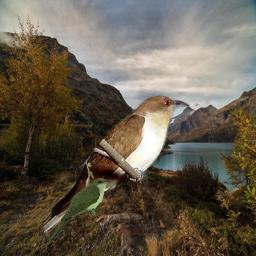Cuckoo: (44, 93, 190, 234), (47, 178, 112, 245)
